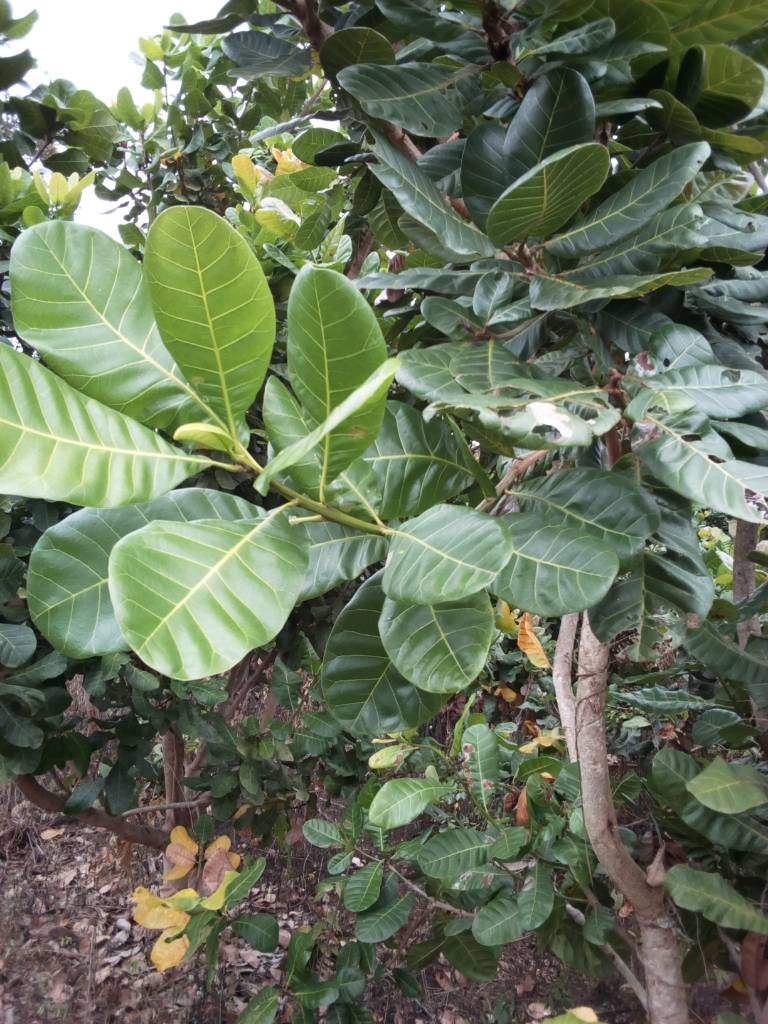Anoplonemis curvipes: (383, 327, 647, 449), (627, 367, 768, 513)
